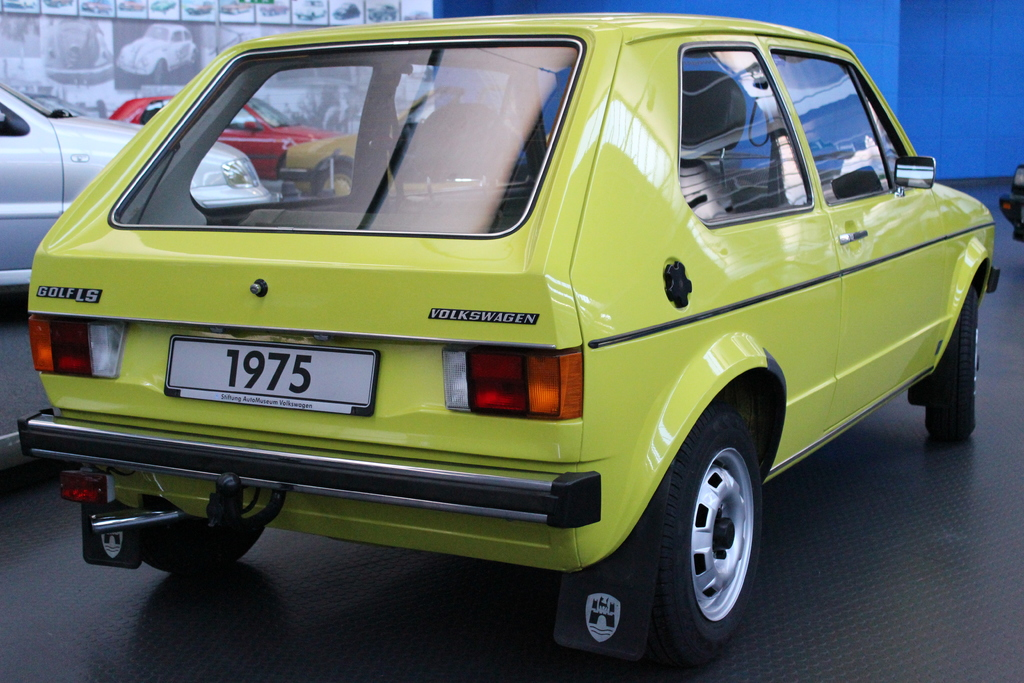Car: (0, 13, 1001, 669), (998, 164, 1024, 243)
